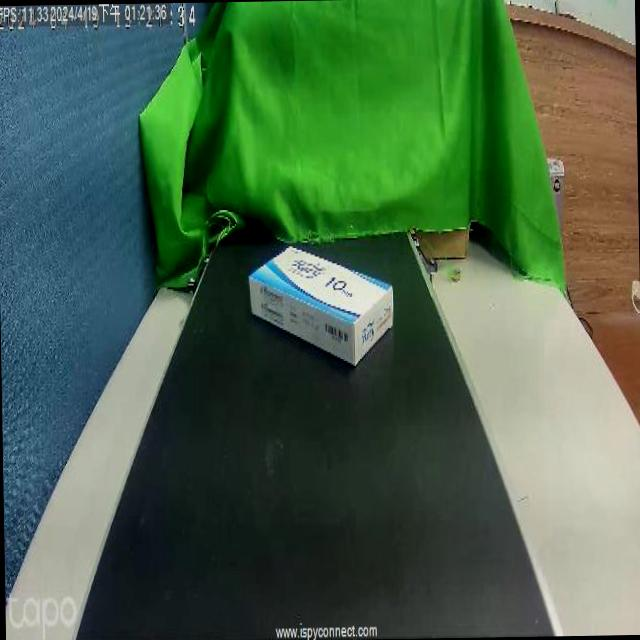box: (257, 230, 394, 352)
